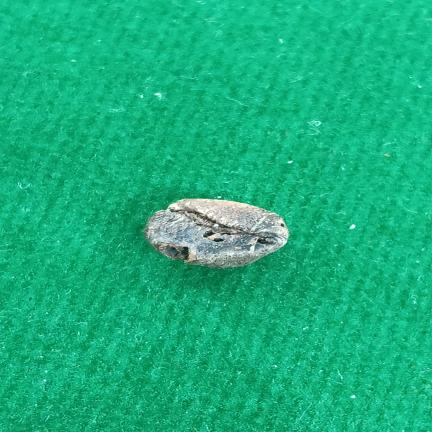partial-black: (144, 199, 289, 268)
